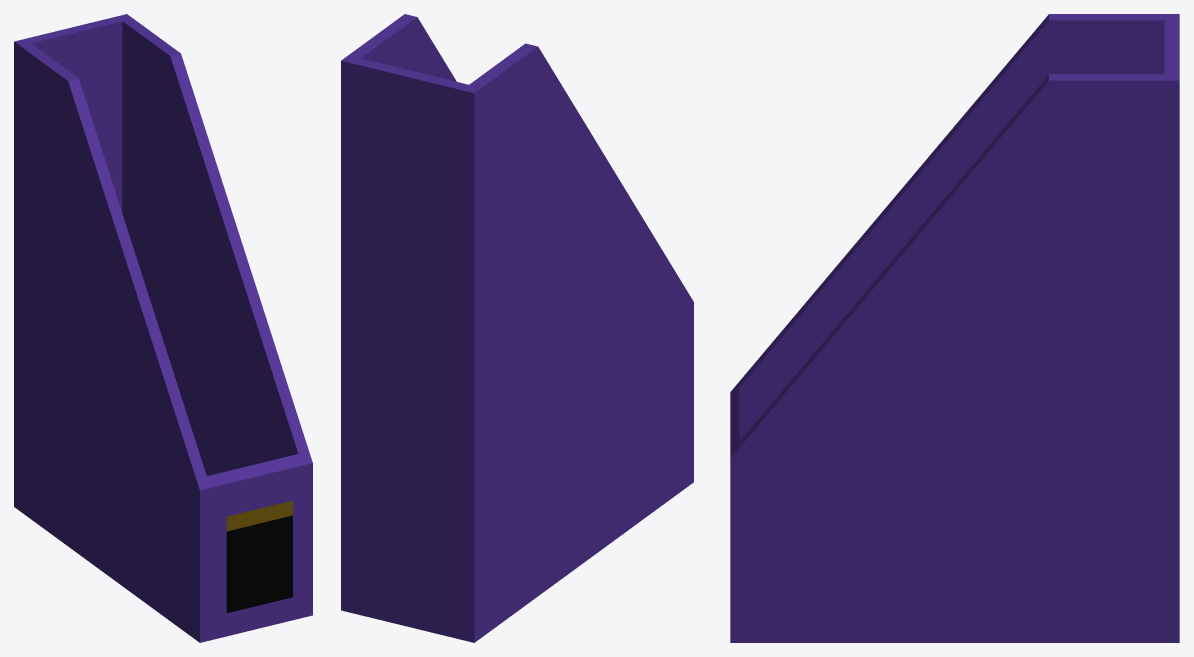
The model's file is fileholder_empty.fbx.
The picture shows the model from 3 angles, left to right: view 1: azimuth 30°, elevation 25°; view 2: azimuth 150°, elevation 25°; view 3: azimuth 270°, elevation 25°; orthographic projection. The views are drawn at different scales.
Parts seen in each view (by area): view 1: fileholder_empty; view 2: fileholder_empty; view 3: fileholder_empty.
Boxes of the visible parts, x1,y1,x2,y2 form: fileholder_empty: (14, 14, 312, 642); fileholder_empty: (341, 14, 693, 642); fileholder_empty: (730, 14, 1179, 642).
Bounding box in the file's own units: 7 × 27.55 × 20.3.
